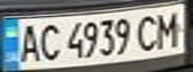3: (97, 16, 118, 57)
4: (63, 19, 84, 61)
9: (112, 15, 136, 55), (78, 18, 100, 58)
A: (15, 21, 42, 63)
C: (133, 11, 163, 52), (36, 20, 63, 62)
M: (151, 8, 184, 48)
